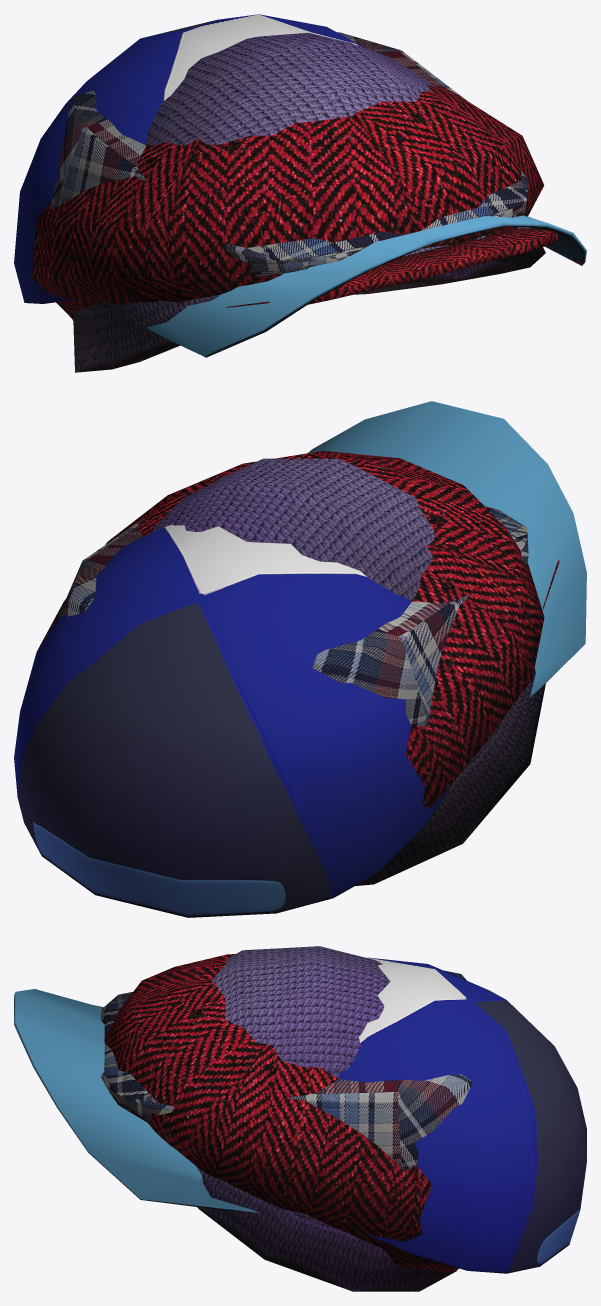
The model's file is Hats.FBX.
3 renders of one model, top to bottom at view 1: azimuth 30°, elevation 25°; view 2: azimuth 150°, elevation 25°; view 3: azimuth 270°, elevation 25°, orthographic. The views are drawn at different scales.
Visible parts, largest first — view 1: FHatC, HatA, HatB, MHatC; view 2: HatB, HatA, FHatC, MHatC; view 3: HatB, FHatC, HatA, MHatC.
Boxes of the visible parts, x1=… form: FHatC: x1=32, y1=83, x2=558, y2=320; HatA: x1=73, y1=33, x2=545, y2=372; HatB: x1=14, y1=14, x2=586, y2=357; MHatC: x1=50, y1=32, x2=528, y2=277; HatB: x1=14, y1=401, x2=586, y2=917; HatA: x1=148, y1=458, x2=545, y2=885; FHatC: x1=37, y1=451, x2=559, y2=807; MHatC: x1=57, y1=506, x2=528, y2=726; HatB: x1=14, y1=957, x2=586, y2=1273; FHatC: x1=104, y1=954, x2=458, y2=1272; HatA: x1=196, y1=946, x2=457, y2=1291; MHatC: x1=101, y1=970, x2=472, y2=1169.
Bounding box in the file's own units: 23.51 × 17.69 × 32.37.
